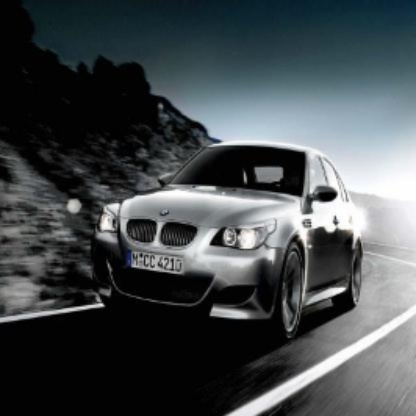Vehicle: (91, 141, 364, 345)
